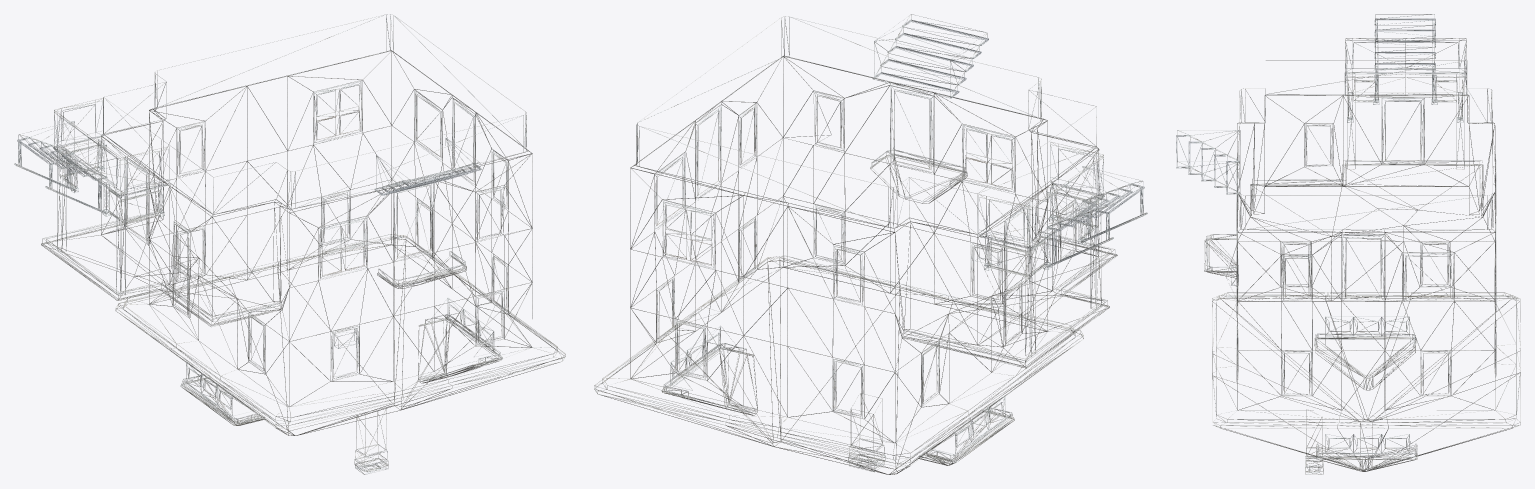
File: housefix3.obj
3 views of the same model, side by side, from view 1: azimuth 30°, elevation 25°; view 2: azimuth 150°, elevation 25°; view 3: azimuth 270°, elevation 25° (orthographic). The views are drawn at different scales.
Visible parts, largest first — view 1: house; view 2: house; view 3: house.
Part boxes in pixels (x1,y1,x2,y2): house: (14, 14, 565, 474); house: (594, 14, 1147, 474); house: (1176, 14, 1520, 474).
Size of what is drawn, in the model's own units: 125 by 97.65 by 93.21.
